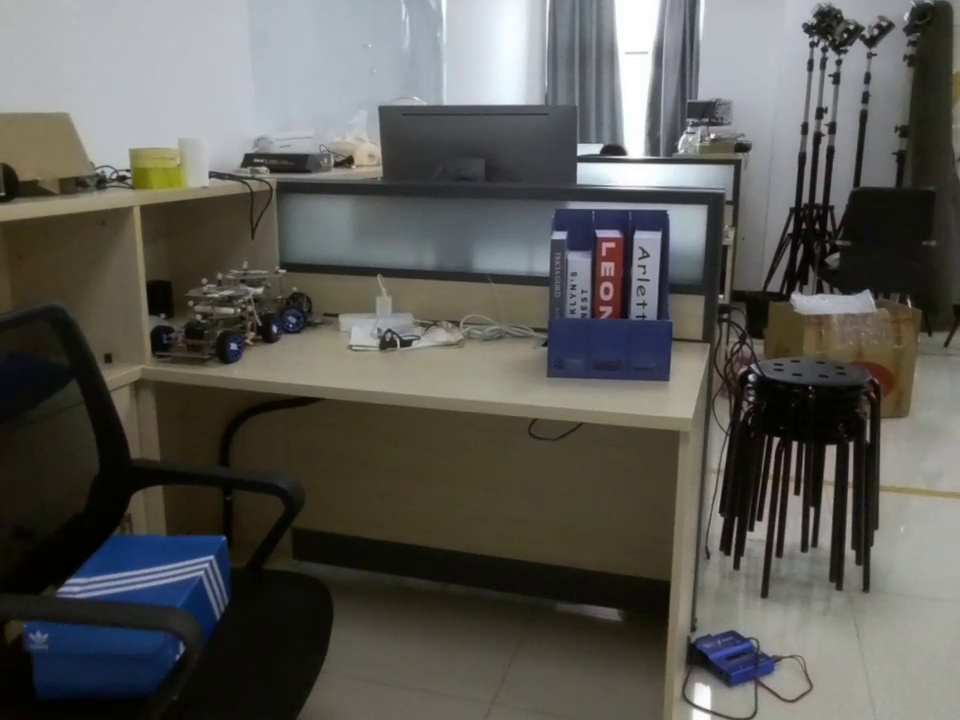files: (545, 204, 680, 387)
